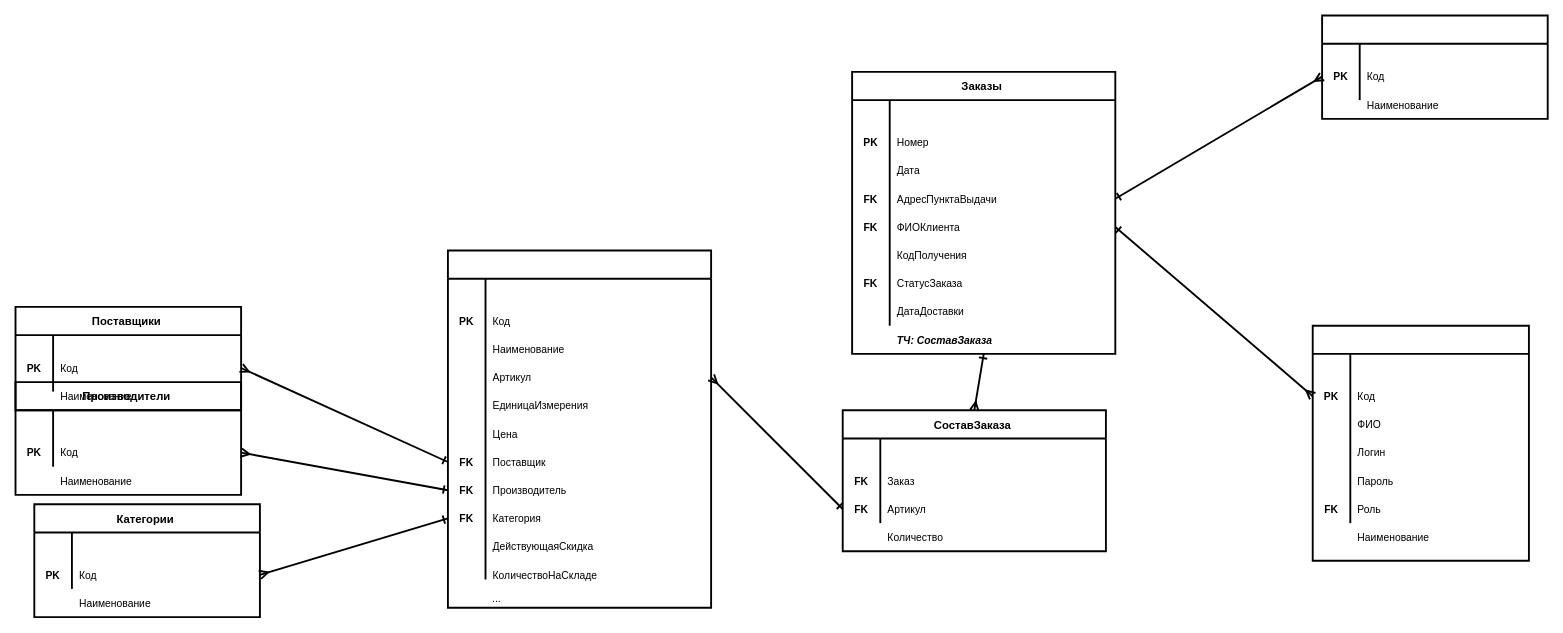
Image size: 1563x633. Some labels were removed from this diagram. The shapes that lost their labels are listed below. From the top down, each one's box as (x1, y1, x2, y2) in pixels, then its label:
(1321, 14, 1548, 119): ПунктыВыдачи
(446, 249, 712, 608): Товары
(1311, 324, 1529, 561): Пользователи
